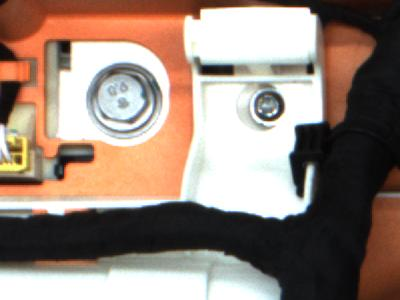nut_b: (82, 66, 156, 129)
screw_m: (242, 86, 285, 123)
